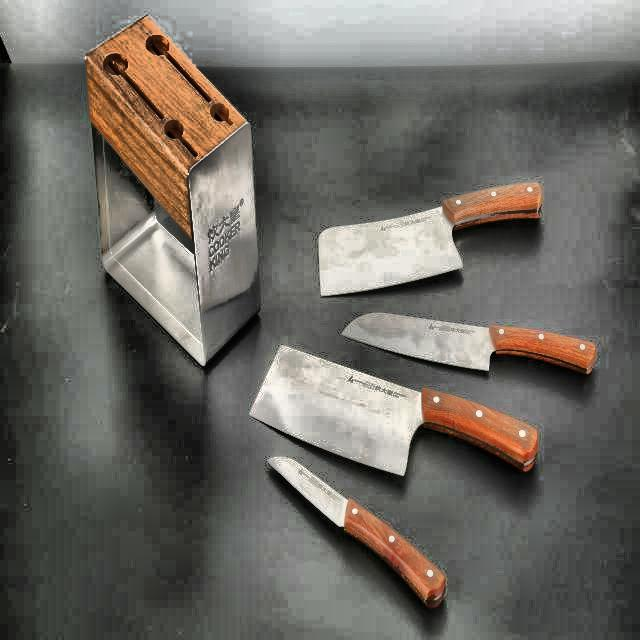knife: (247, 344, 544, 488), (264, 445, 444, 610), (310, 175, 544, 300), (343, 306, 601, 384)
